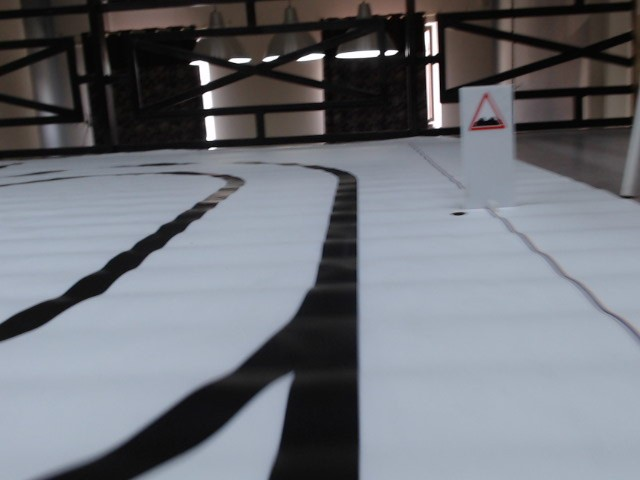Nerov: (467, 93, 507, 132)
